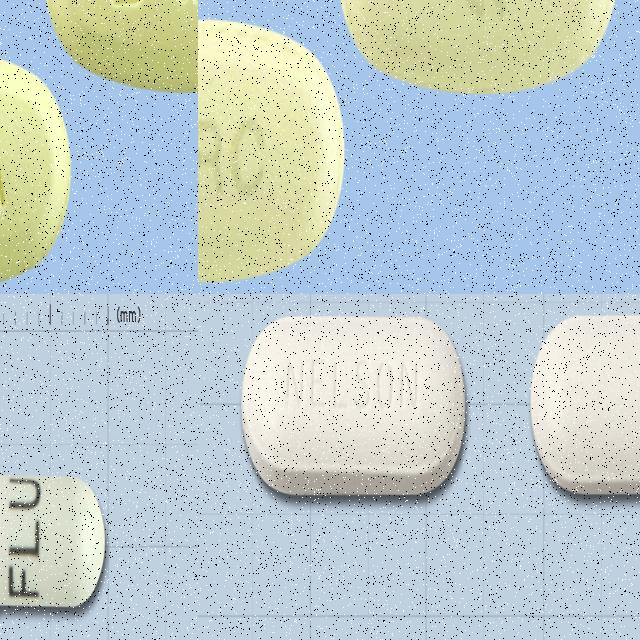Ciproctan: (240, 307, 473, 504), (526, 309, 640, 502)
Clar: (0, 40, 75, 294), (41, 0, 198, 94)
Clirocin: (198, 10, 346, 287), (337, 0, 618, 98)
Diflucan Cap: (0, 468, 106, 611)
